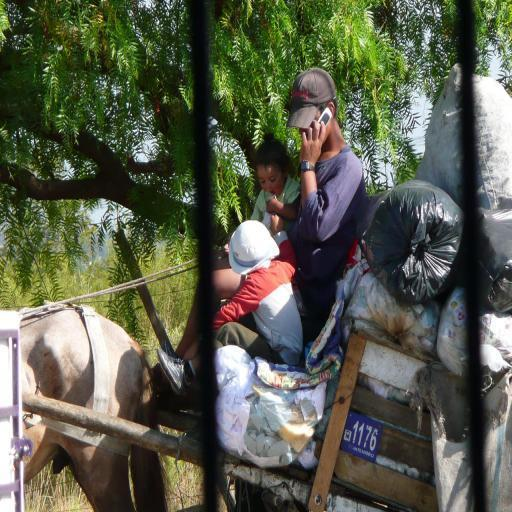horse: (22, 302, 176, 512)
